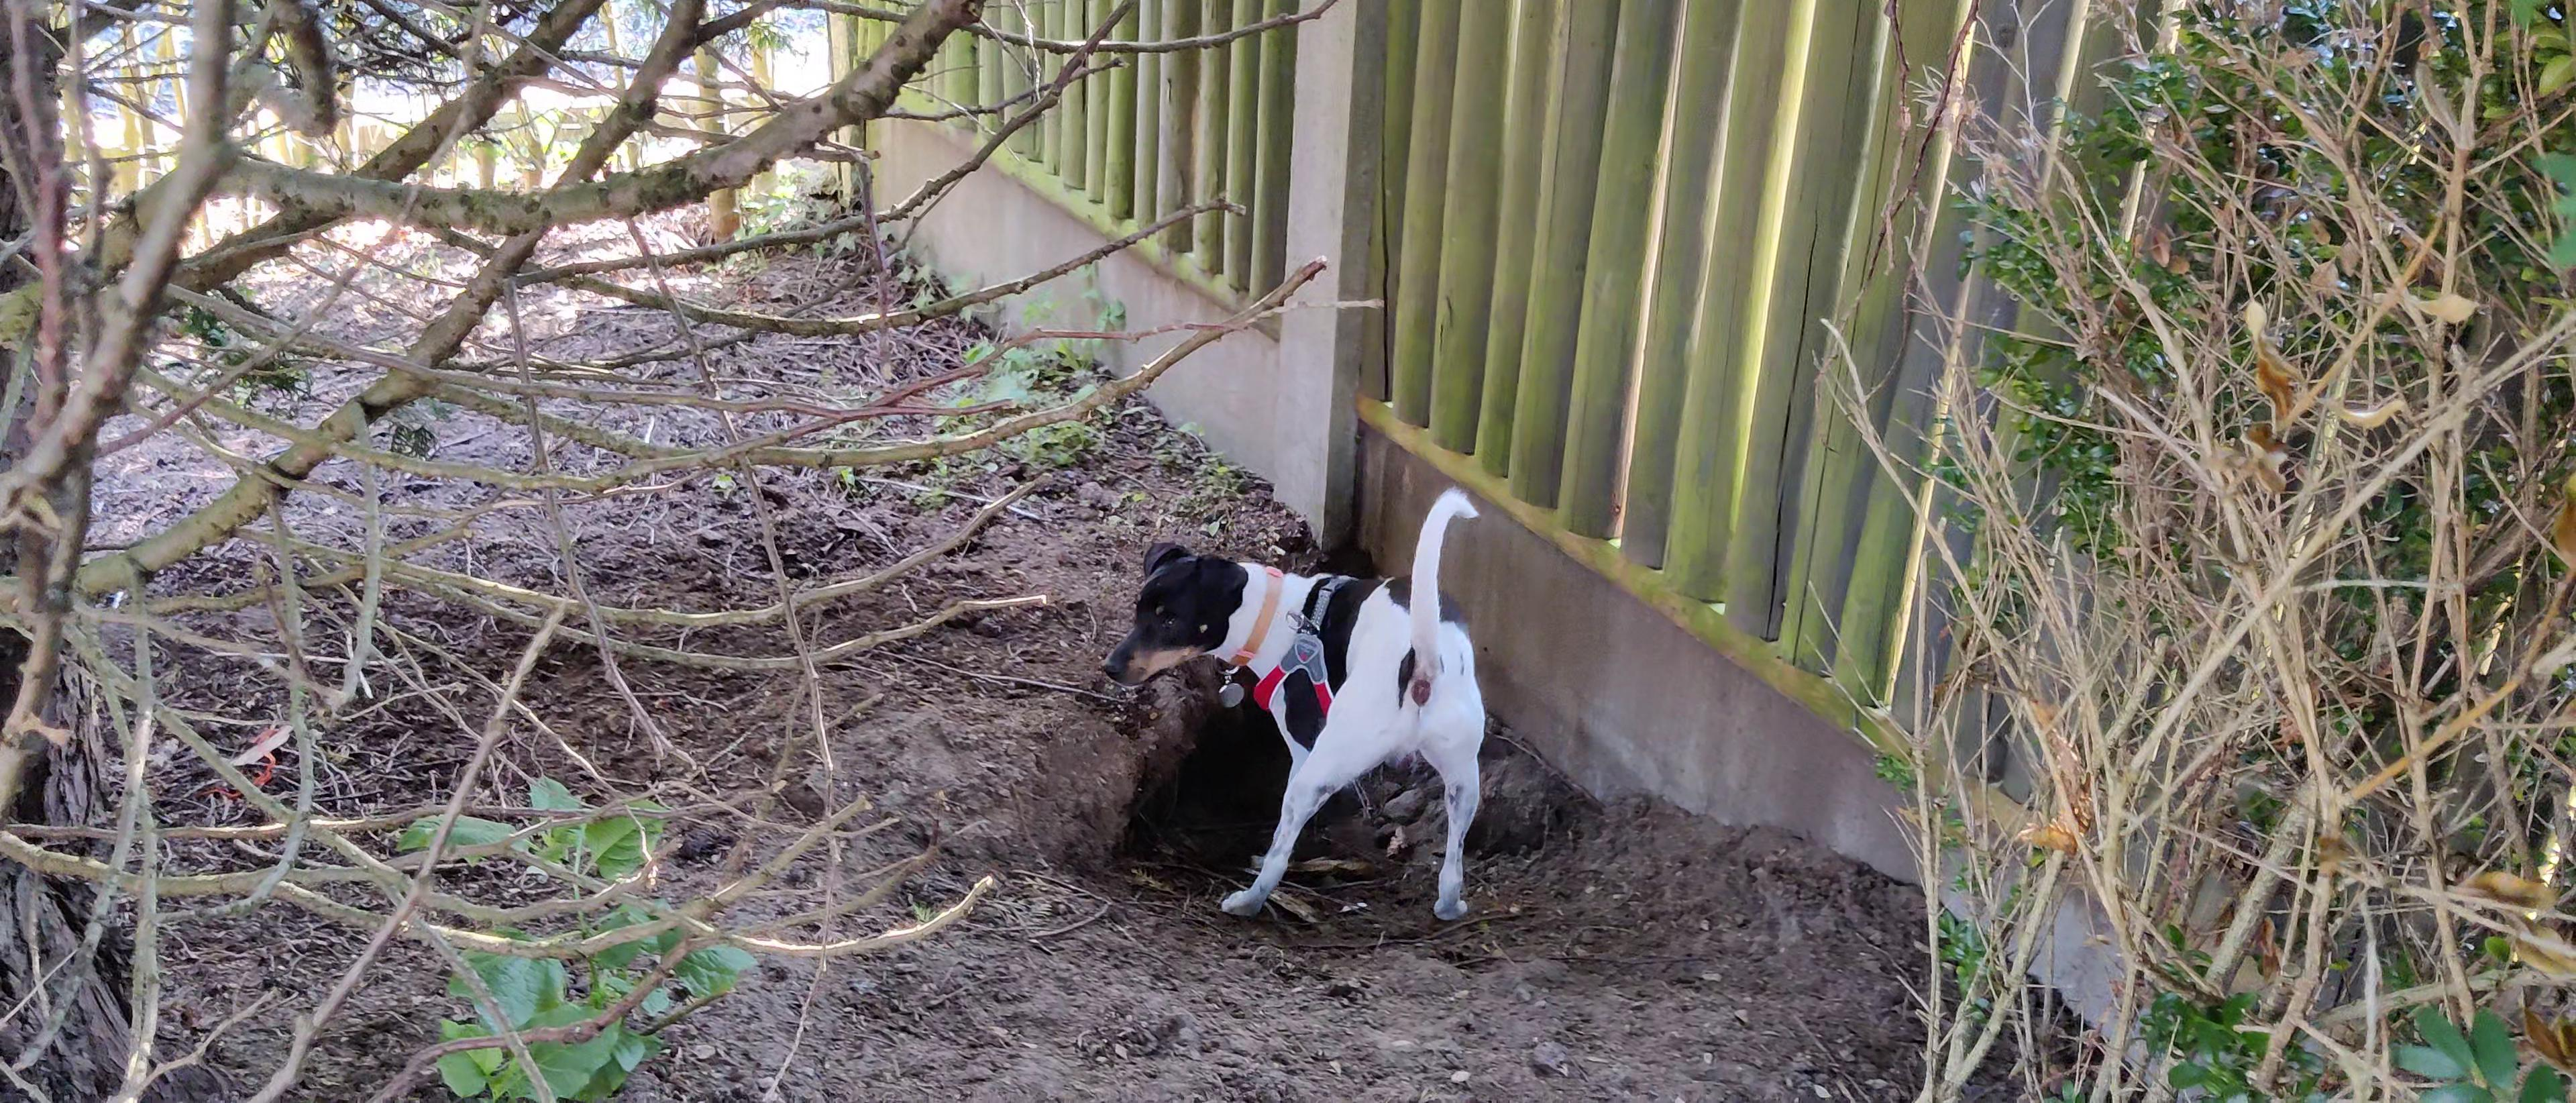Dog: (1083, 465, 1500, 935)
